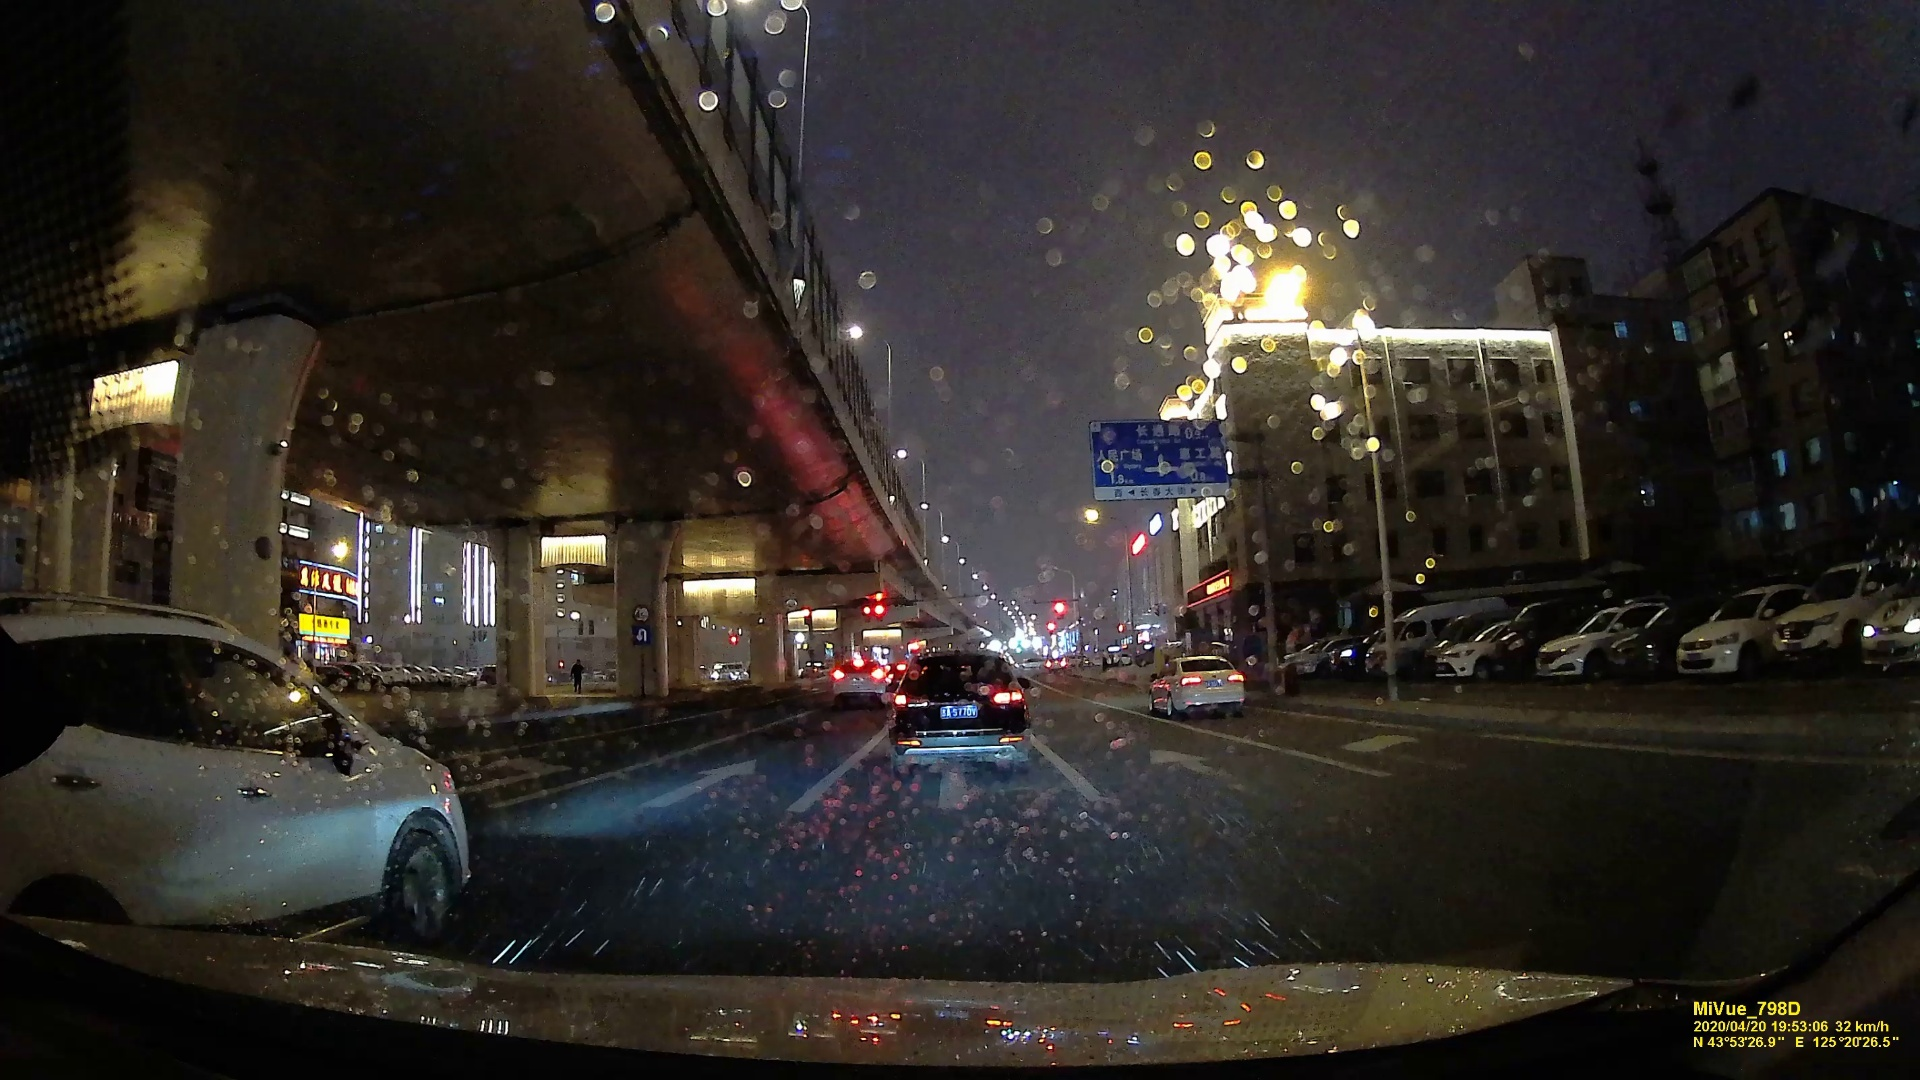minibus: (1364, 603, 1448, 680)
traffic_sign: (1095, 419, 1224, 496)
vehicle: (3, 615, 468, 938), (884, 645, 1033, 774), (1146, 653, 1245, 717), (833, 659, 886, 703)
